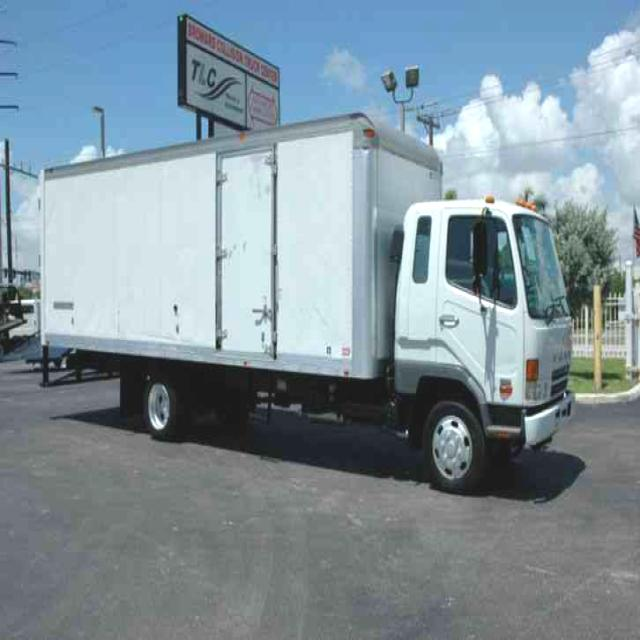truck: (39, 114, 572, 484)
